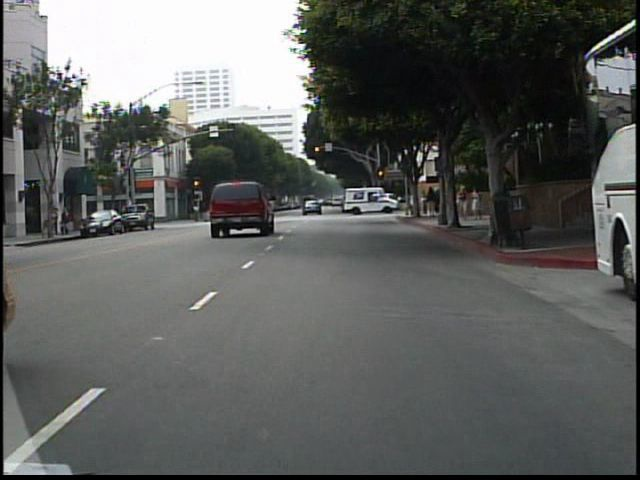person: (470, 181, 484, 223), (456, 183, 469, 221)
